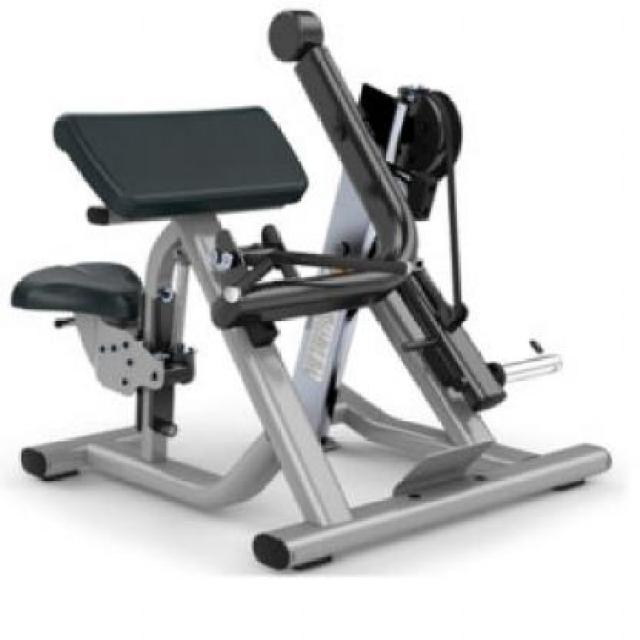arm curl machine: (12, 11, 618, 577)
